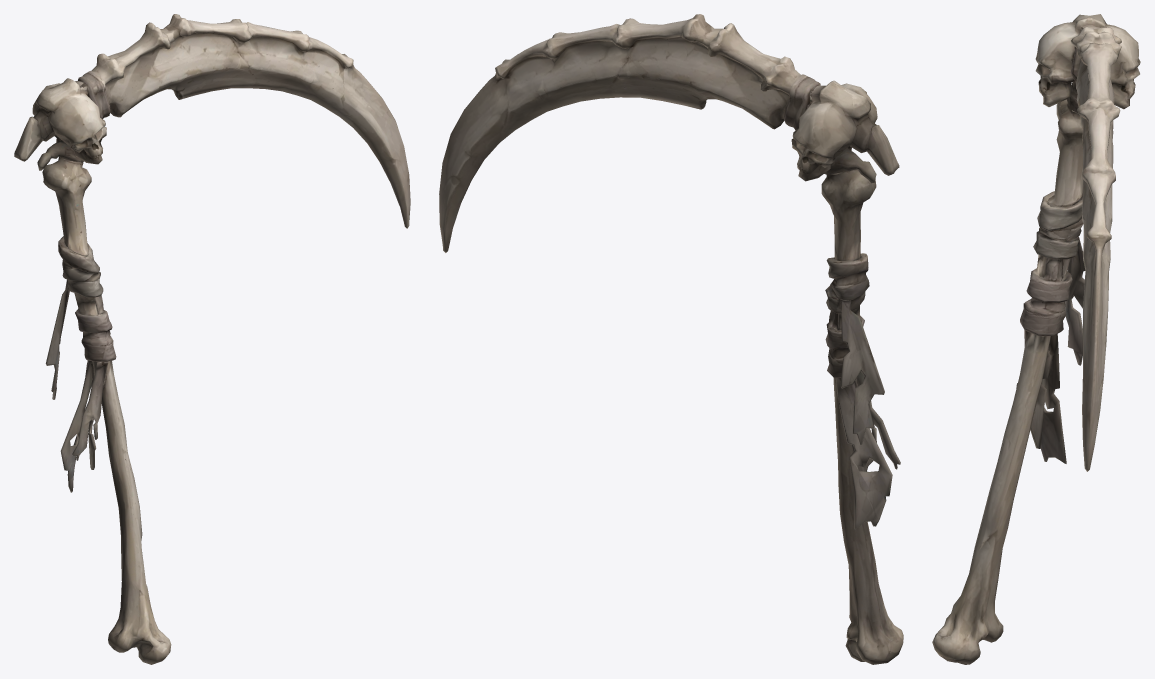
Rendered from tripo_convert_dded8db8-8d07-4b5b-a9d5-0f0dca3e9f00.fbx.
The picture shows the model from 3 angles, left to right: view 1: azimuth 30°, elevation 25°; view 2: azimuth 150°, elevation 25°; view 3: azimuth 270°, elevation 25°; orthographic projection. The views are drawn at different scales.
Parts seen in each view (by area): view 1: tripo_part_4, tripo_part_7, tripo_part_8, tripo_part_0; view 2: tripo_part_4, tripo_part_8, tripo_part_7, tripo_part_0; view 3: tripo_part_7, tripo_part_4, tripo_part_8, tripo_part_0.
Part boxes in pixels (<box>): tripo_part_4: <box>78,14,410,228</box>; tripo_part_7: <box>42,156,171,664</box>; tripo_part_8: <box>45,236,116,492</box>; tripo_part_0: <box>14,78,106,170</box>; tripo_part_4: <box>439,14,820,252</box>; tripo_part_8: <box>825,253,900,528</box>; tripo_part_7: <box>821,170,903,664</box>; tripo_part_0: <box>791,80,899,183</box>; tripo_part_7: <box>932,99,1082,664</box>; tripo_part_4: <box>1070,26,1121,471</box>; tripo_part_8: <box>1016,191,1085,463</box>; tripo_part_0: <box>1035,14,1140,113</box>.
Bounding box in the file's own units: 0.7108 × 0.9992 × 0.282.
4 materials, 4 textured.
